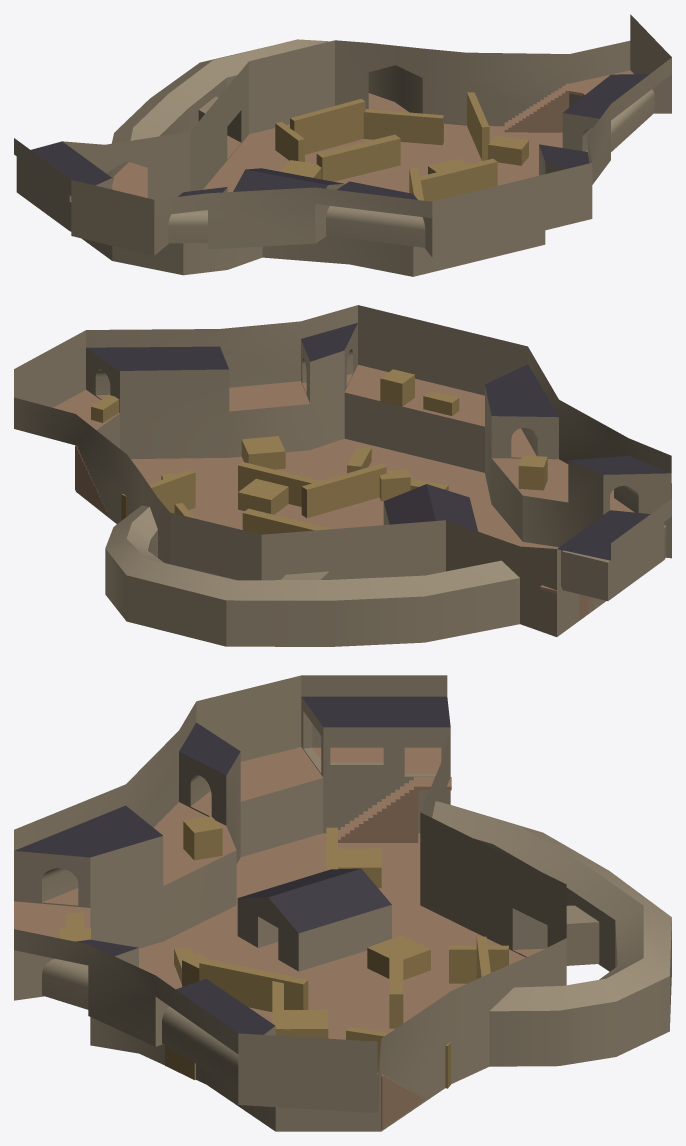
Rendered from greybox.fbx.
3 views of the same model, one above another, from view 1: azimuth 30°, elevation 25°; view 2: azimuth 150°, elevation 25°; view 3: azimuth 270°, elevation 25° (orthographic). The views are drawn at different scales.
Visible parts, largest first — view 1: Rest, Roofs; view 2: Rest, Roofs; view 3: Rest, Roofs.
Boxes of the visible parts, box(x1,y1,x2,y2) form: Rest: box(14, 14, 671, 276); Roofs: box(31, 74, 649, 200); Rest: box(14, 305, 671, 646); Roofs: box(86, 323, 670, 560); Rest: box(14, 675, 671, 1131); Roofs: box(14, 696, 508, 1045).
Bounding box in the file's own units: 5693 × 921 × 4323.
